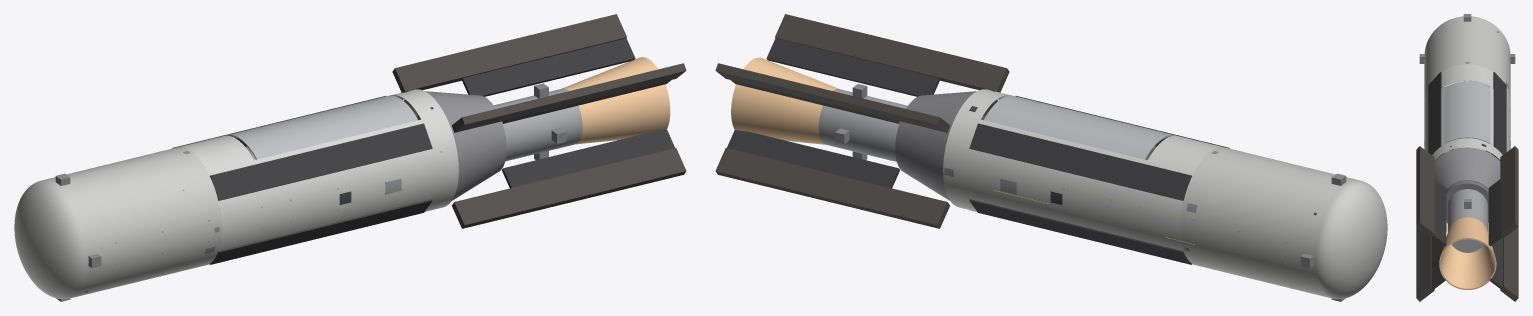
The model's file is wayfarer_I4_in_out_9d6f0059.glb.
3 renders of one model, left to right at view 1: azimuth 30°, elevation 25°; view 2: azimuth 150°, elevation 25°; view 3: azimuth 270°, elevation 25°, orthographic. The views are drawn at different scales.
Parts seen in each view (by area): view 1: Exterior, crown closed/hull_armor, Exterior, crown closed/radiator, Exterior, crown closed/hotfin, Exterior, crown closed/hull_skin, Exterior, crown closed/door, Exterior, crown closed/nozzle, Exterior, crown closed/thrust_cone, Exterior, crown closed/reactor, Exterior, crown closed/rcs; view 2: Exterior, crown closed/hull_armor, Exterior, crown closed/radiator, Exterior, crown closed/hotfin, Exterior, crown closed/hull_skin, Exterior, crown closed/door, Exterior, crown closed/nozzle, Exterior, crown closed/thrust_cone, Exterior, crown closed/reactor, Exterior, crown closed/rcs; view 3: Exterior, crown closed/hotfin, Exterior, crown closed/radiator, Exterior, crown closed/hull_armor, Exterior, crown closed/nozzle, Exterior, crown closed/door, Exterior, crown closed/hull_skin, Exterior, crown closed/thrust_cone, Exterior, crown closed/reactor, Exterior, crown closed/shield, Exterior, crown closed/rcs.
Part boxes in pixels (x1=…): Exterior, crown closed/hull_armor: x1=14, y1=147, x2=221, y2=299; Exterior, crown closed/radiator: x1=172, y1=38, x2=674, y2=264; Exterior, crown closed/hotfin: x1=392, y1=14, x2=686, y2=228; Exterior, crown closed/hull_skin: x1=178, y1=89, x2=458, y2=264; Exterior, crown closed/door: x1=226, y1=95, x2=417, y2=159; Exterior, crown closed/nozzle: x1=562, y1=57, x2=670, y2=144; Exterior, crown closed/thrust_cone: x1=404, y1=91, x2=506, y2=200; Exterior, crown closed/reactor: x1=494, y1=88, x2=582, y2=161; Exterior, crown closed/rcs: x1=55, y1=83, x2=566, y2=301; Exterior, crown closed/hull_armor: x1=1180, y1=147, x2=1387, y2=299; Exterior, crown closed/radiator: x1=727, y1=38, x2=1229, y2=264; Exterior, crown closed/hotfin: x1=715, y1=14, x2=1009, y2=228; Exterior, crown closed/hull_skin: x1=943, y1=89, x2=1223, y2=264; Exterior, crown closed/door: x1=984, y1=95, x2=1175, y2=159; Exterior, crown closed/nozzle: x1=731, y1=57, x2=838, y2=144; Exterior, crown closed/thrust_cone: x1=895, y1=91, x2=997, y2=200; Exterior, crown closed/reactor: x1=818, y1=89, x2=907, y2=161; Exterior, crown closed/rcs: x1=835, y1=84, x2=1346, y2=301; Exterior, crown closed/hotfin: x1=1416, y1=146, x2=1518, y2=301; Exterior, crown closed/radiator: x1=1428, y1=72, x2=1506, y2=289; Exterior, crown closed/hull_armor: x1=1424, y1=16, x2=1510, y2=100; Exterior, crown closed/nozzle: x1=1439, y1=217, x2=1496, y2=289; Exterior, crown closed/door: x1=1444, y1=81, x2=1490, y2=143; Exterior, crown closed/hull_skin: x1=1424, y1=64, x2=1510, y2=159; Exterior, crown closed/thrust_cone: x1=1434, y1=147, x2=1500, y2=223; Exterior, crown closed/reactor: x1=1447, y1=189, x2=1488, y2=252; Exterior, crown closed/shield: x1=1446, y1=180, x2=1488, y2=222; Exterior, crown closed/rcs: x1=1419, y1=14, x2=1515, y2=231.
Bounding box in the file's own units: 53.3 × 10 × 10.73.
